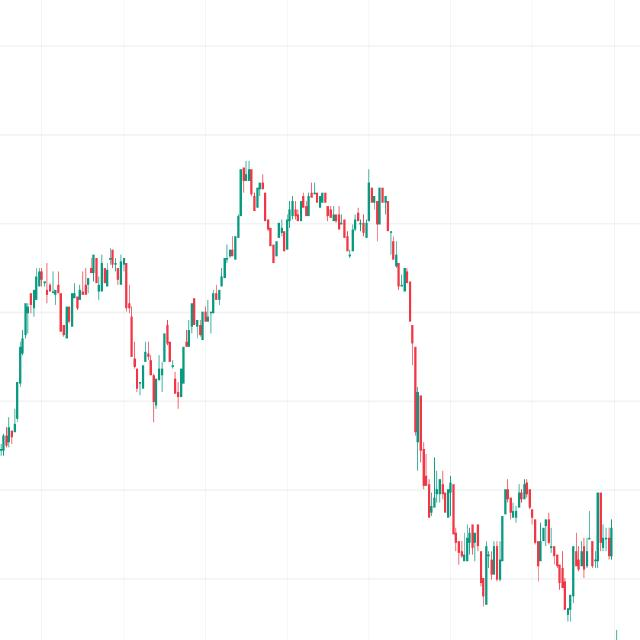Triple-Bottom: (120, 306, 196, 410)
